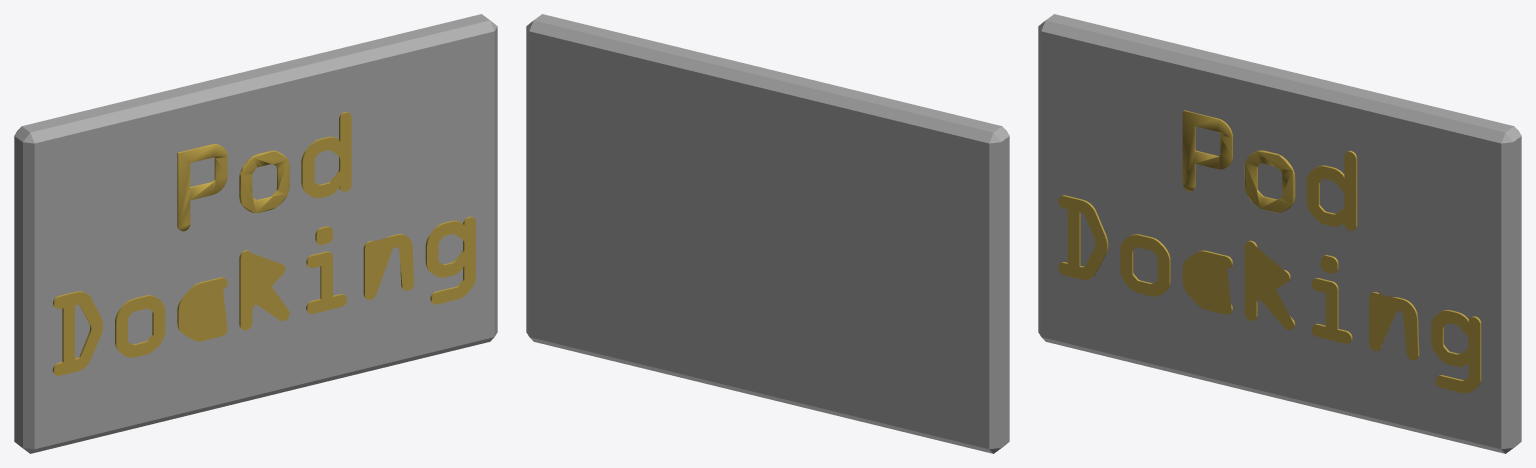
The model's file is Pod Docking Sign.fbx.
The picture shows the model from 3 angles, left to right: view 1: azimuth 30°, elevation 25°; view 2: azimuth 150°, elevation 25°; view 3: azimuth 330°, elevation 25°; orthographic projection.
Parts seen in each view (by area): view 1: pCube1, typeMesh1; view 2: pCube1; view 3: pCube1, typeMesh1.
Part boxes in pixels (x1=…): pCube1: x1=14, y1=14, x2=497, y2=453; typeMesh1: x1=52, y1=111, x2=475, y2=375; pCube1: x1=526, y1=14, x2=1009, y2=453; pCube1: x1=1038, y1=14, x2=1521, y2=453; typeMesh1: x1=1058, y1=110, x2=1481, y2=393.
Size of the model in its own units: 1.23 by 0.7966 by 0.0836.
